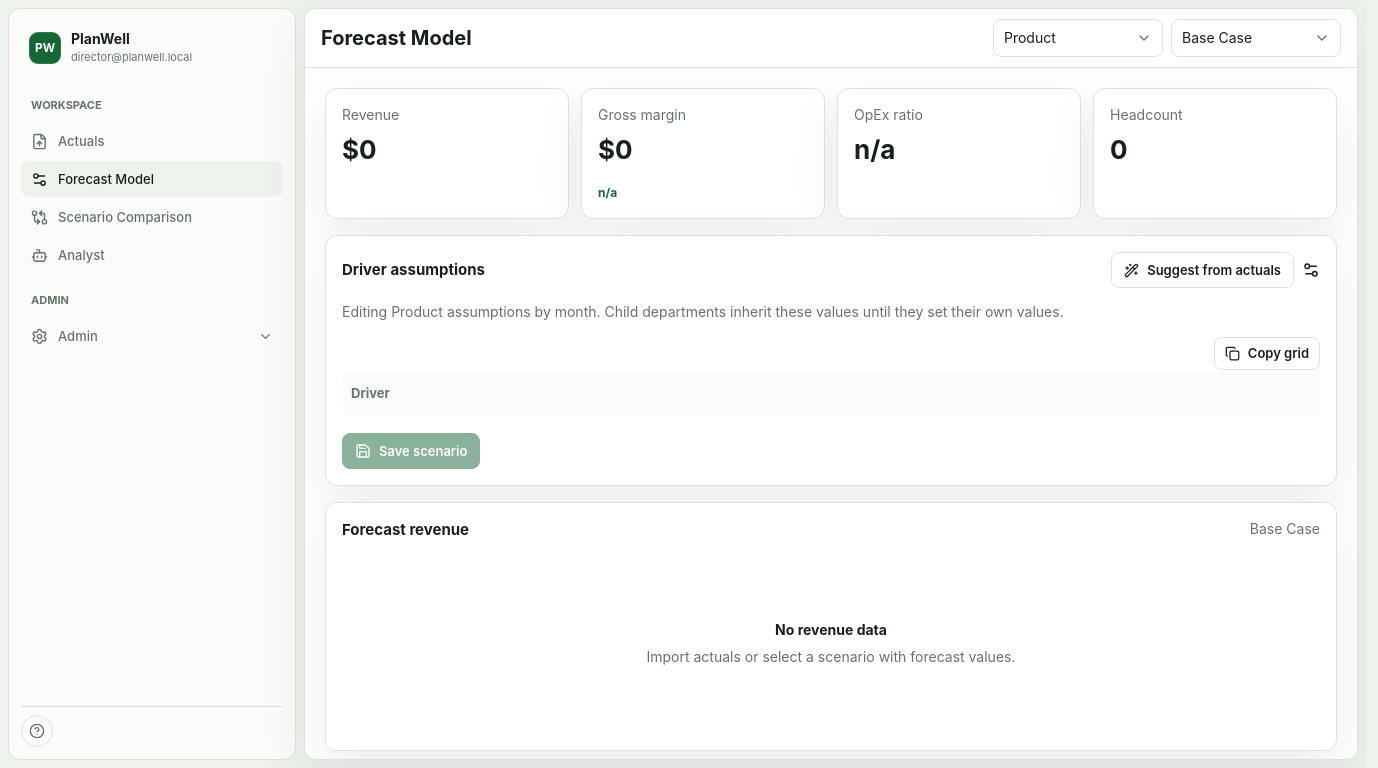
Scenario: PlanWell workbench UI › shows parent department rows in variance tables
This screenshot has width=1378, height=768.
Click the button "Scenario Comparison": {"x": 152, "y": 217} [21,199,283,235]
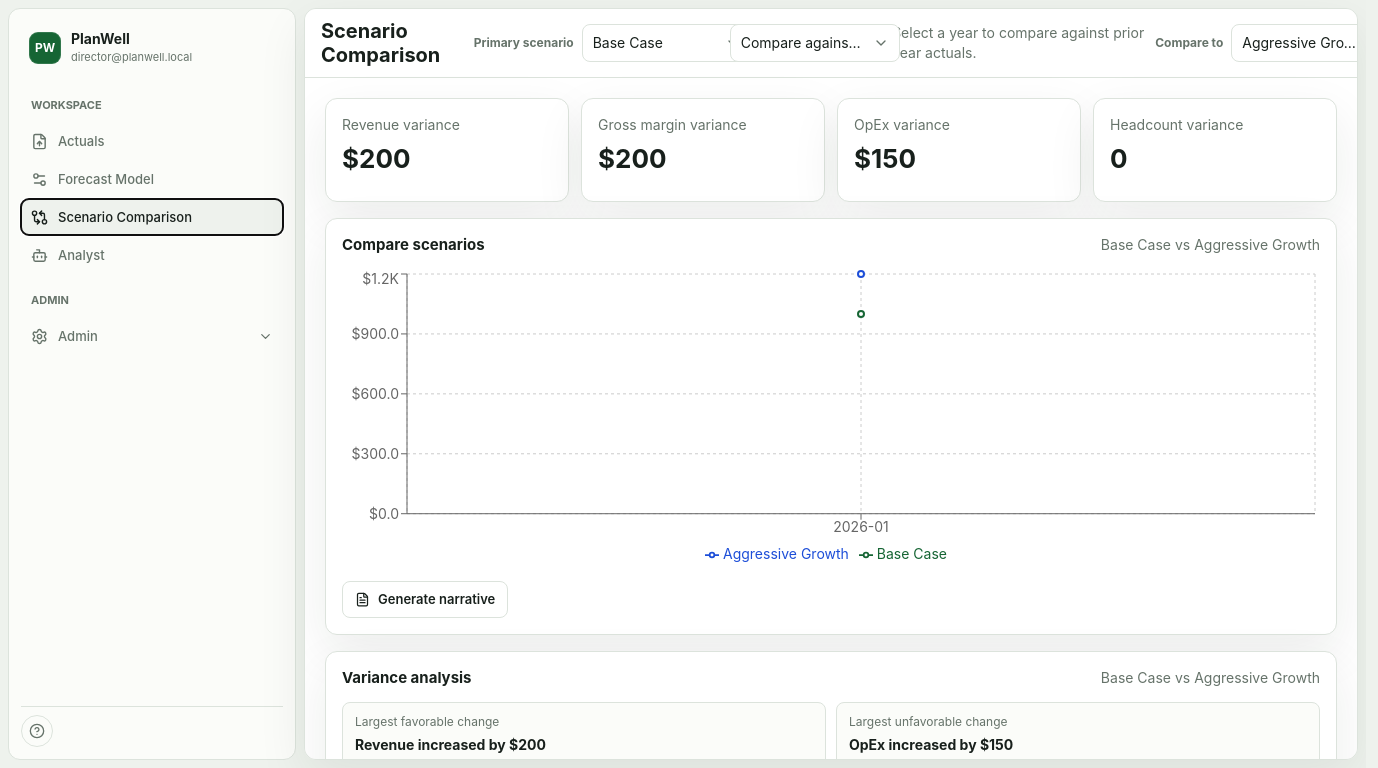
expect the heading "Compare scenarios" is shown: met, box [342,236,485,254]
expect the heading "Variance analysis" is shown: met, box [342,669,472,687]
expect the text "Revenue variance" shows "$200": met, box [342,143,410,174]
